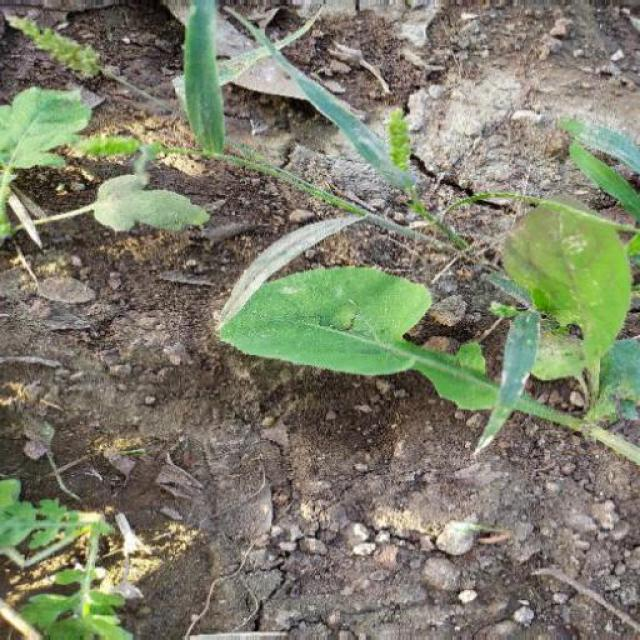weed: (206, 185, 639, 450), (1, 64, 192, 271), (1, 464, 125, 640)
